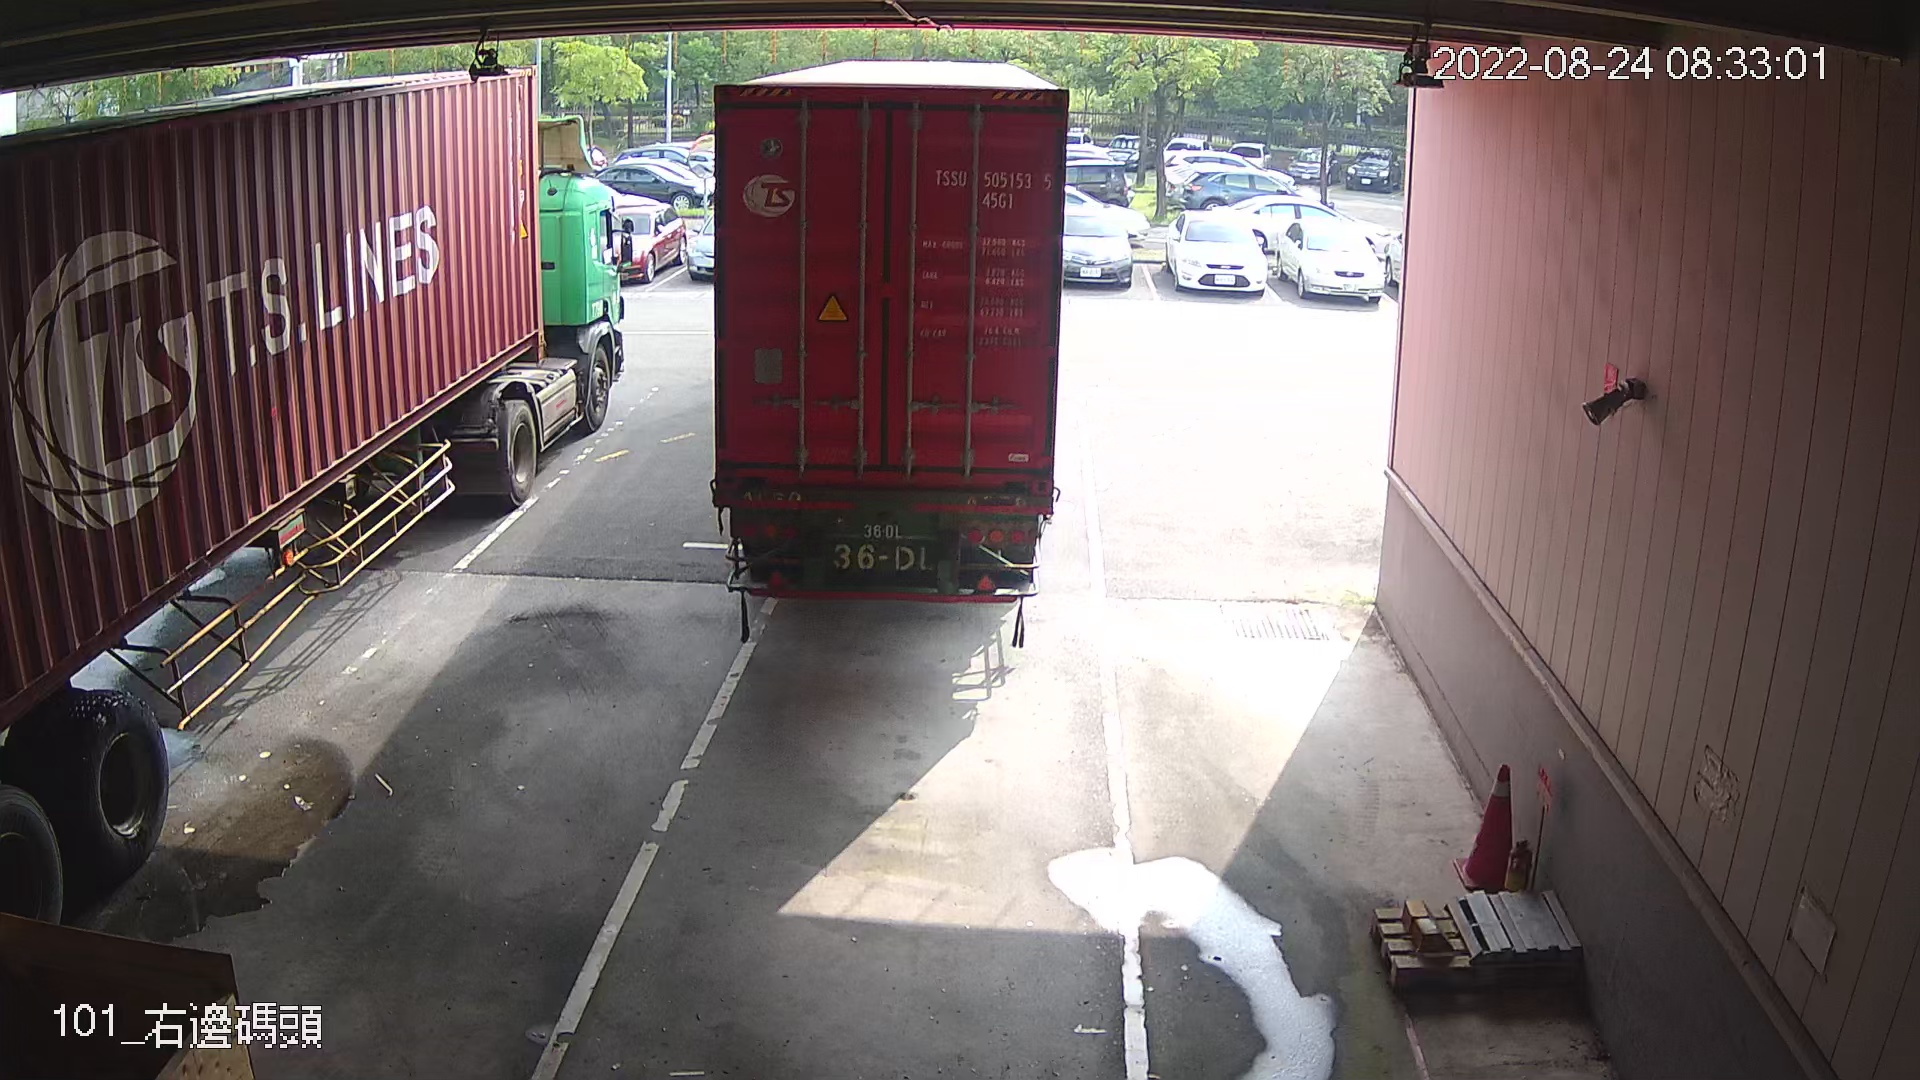container: (923, 157, 1059, 216)
